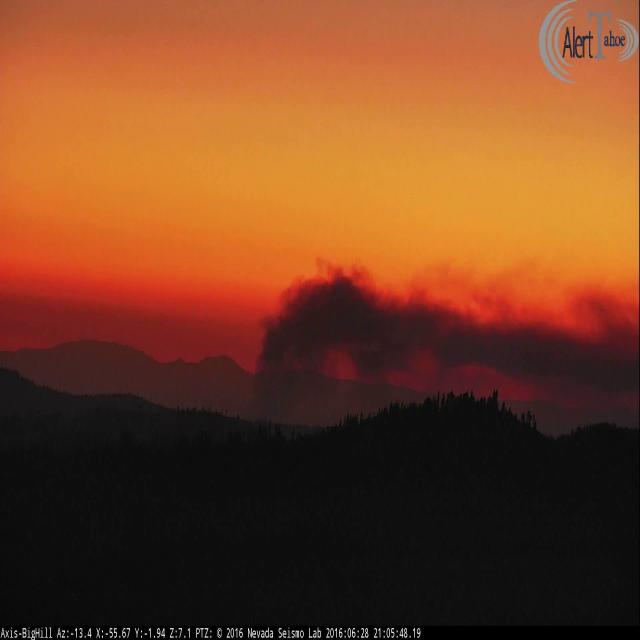smoke: (241, 246, 640, 431)
